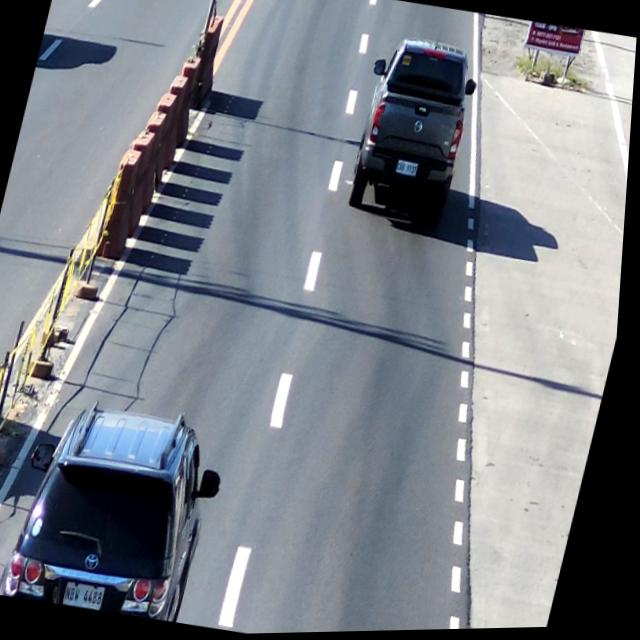Car: (2, 395, 241, 628), (344, 32, 489, 238)
License-Plate: (65, 576, 115, 611), (395, 158, 424, 181)
